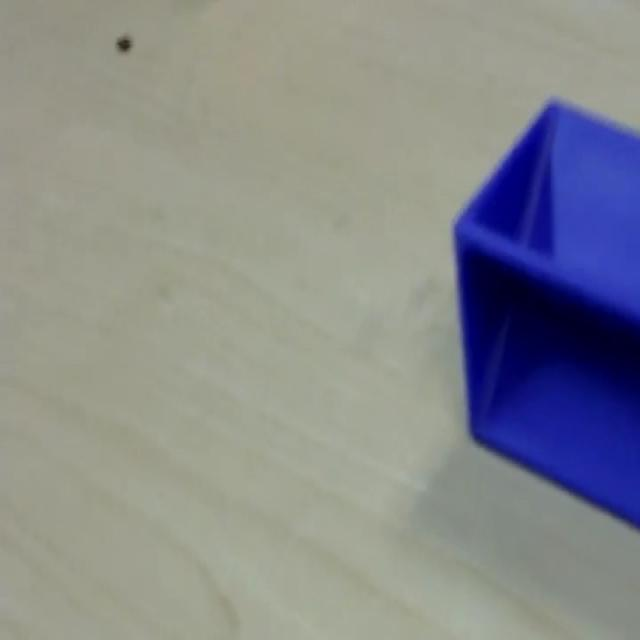blue_block: (451, 93, 638, 530)
